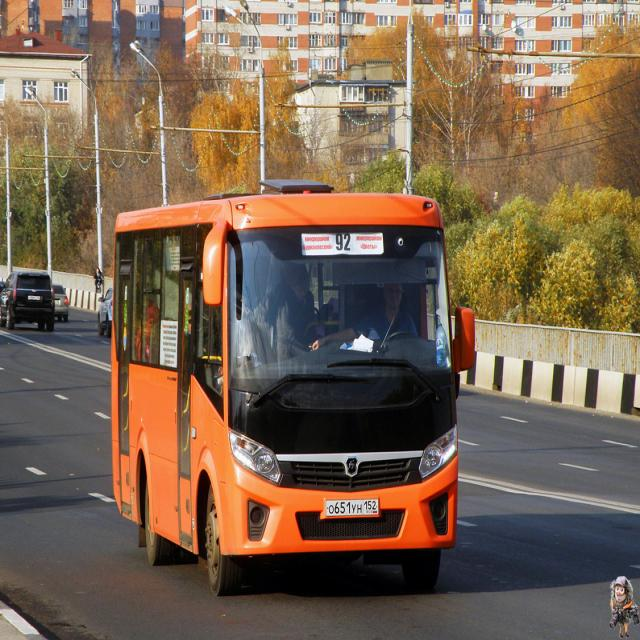number-of-bus: (336, 232, 354, 254)
